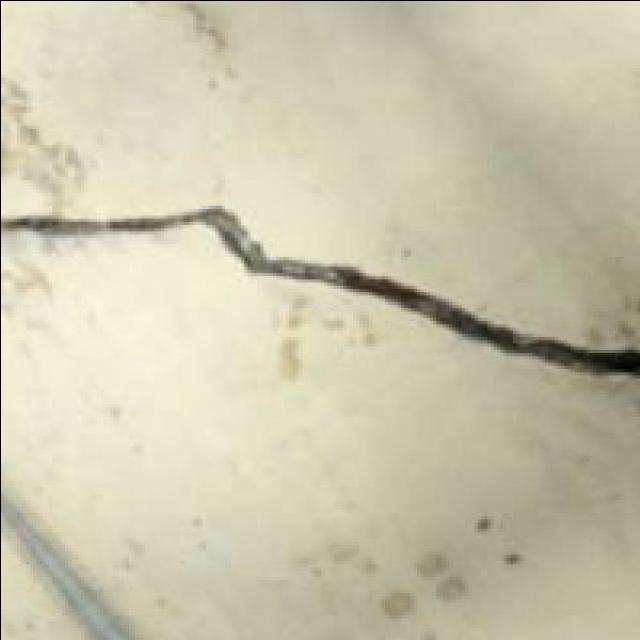SurfaceCrack: (0, 170, 636, 406)
